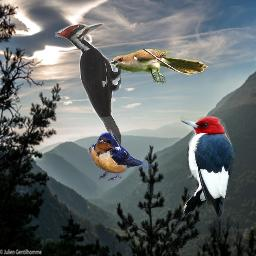Cuckoo: (108, 49, 208, 84)
Swallow: (87, 132, 151, 181)
Woodpecker: (55, 23, 121, 152), (180, 113, 235, 221)
